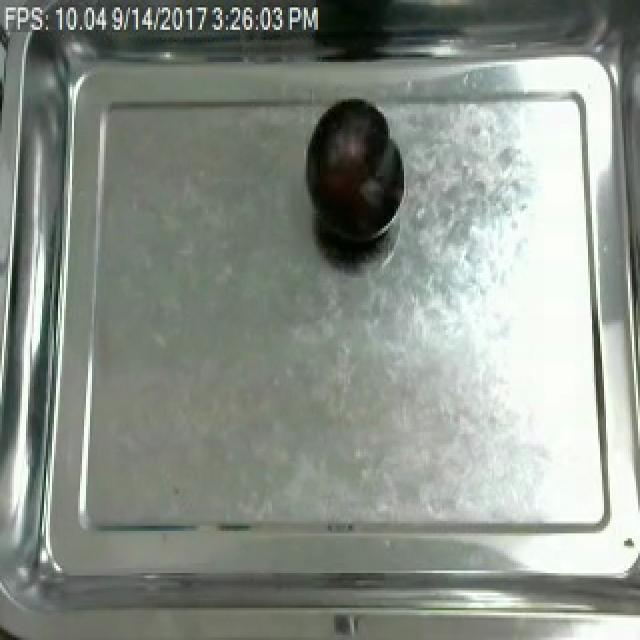Fruit: (302, 94, 408, 256)
